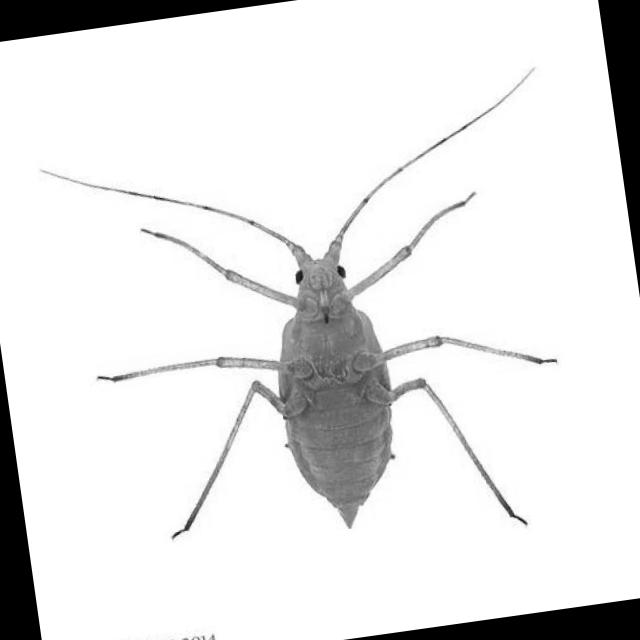Aphids: (100, 120, 554, 570)
